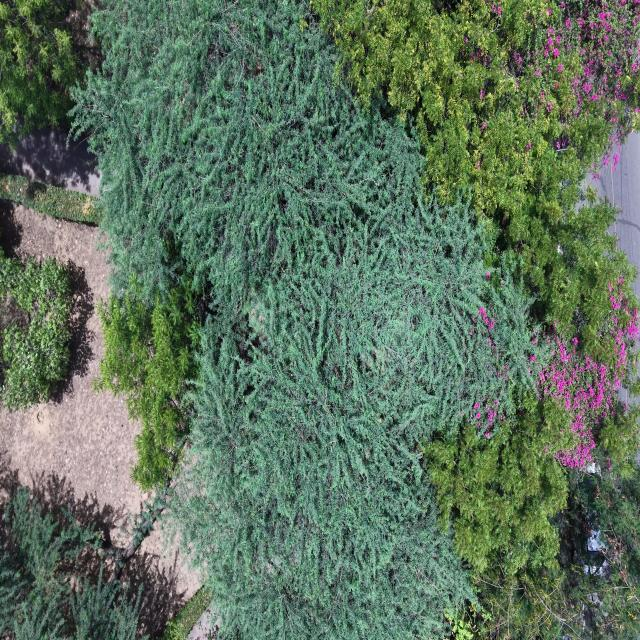DRY_AREA: (0, 201, 146, 544), (0, 205, 142, 535), (0, 129, 100, 196)
VEGETATION_TREE: (73, 0, 638, 639), (76, 0, 537, 638), (316, 0, 639, 597), (174, 174, 528, 638), (314, 0, 639, 353), (313, 0, 639, 289), (425, 203, 637, 638), (426, 283, 639, 638), (425, 276, 638, 573), (468, 458, 639, 639), (425, 395, 570, 574), (94, 281, 198, 490), (0, 488, 141, 639), (537, 278, 638, 469), (534, 190, 636, 366), (554, 459, 639, 639), (0, 0, 95, 143), (0, 252, 71, 408), (107, 491, 167, 581), (0, 174, 101, 223), (162, 586, 212, 639)
